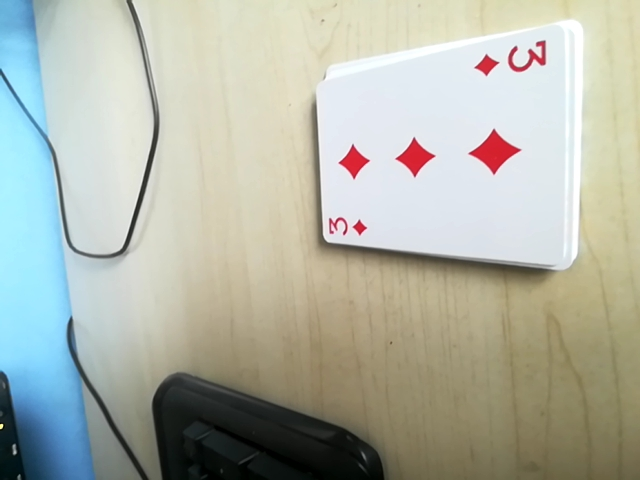fk 3: (474, 34, 553, 85), (320, 207, 374, 243)
